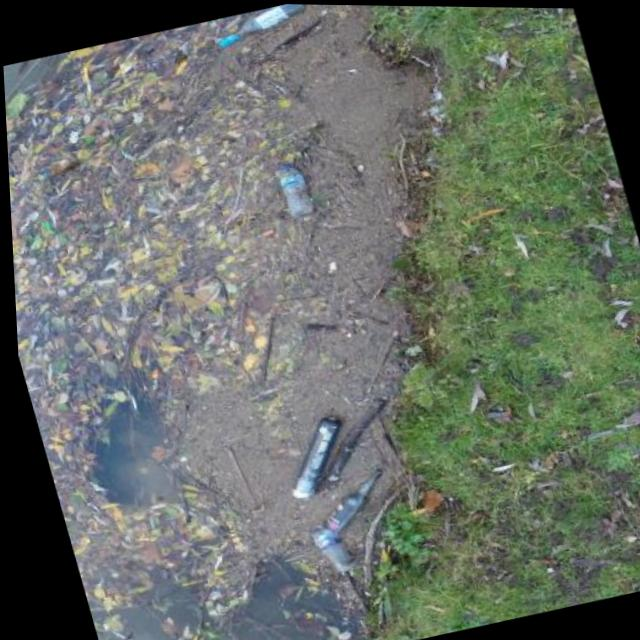glass: (308, 466, 400, 542), (209, 3, 315, 52)
metal: (274, 411, 363, 504)
plastic: (311, 522, 362, 575), (276, 160, 318, 218)
